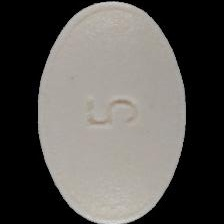55154-9525: (0, 0, 224, 224)
